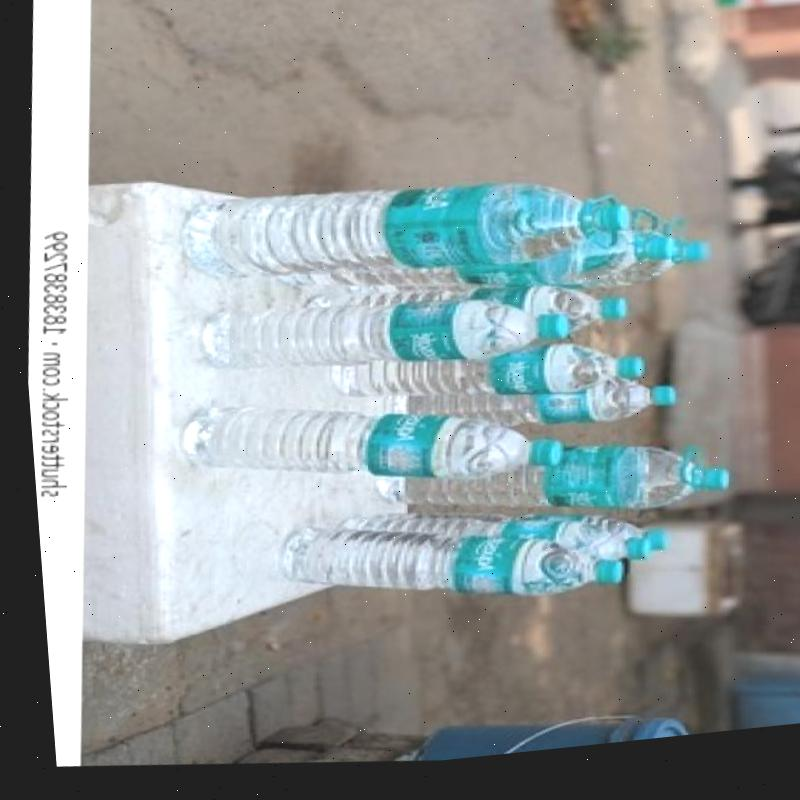botella: (172, 162, 633, 317), (172, 374, 556, 518), (180, 277, 568, 400), (267, 502, 618, 634), (275, 210, 672, 326), (361, 428, 725, 550), (327, 495, 647, 604), (318, 325, 642, 432), (295, 269, 626, 372), (346, 496, 661, 589), (371, 363, 673, 459), (574, 212, 709, 308)
